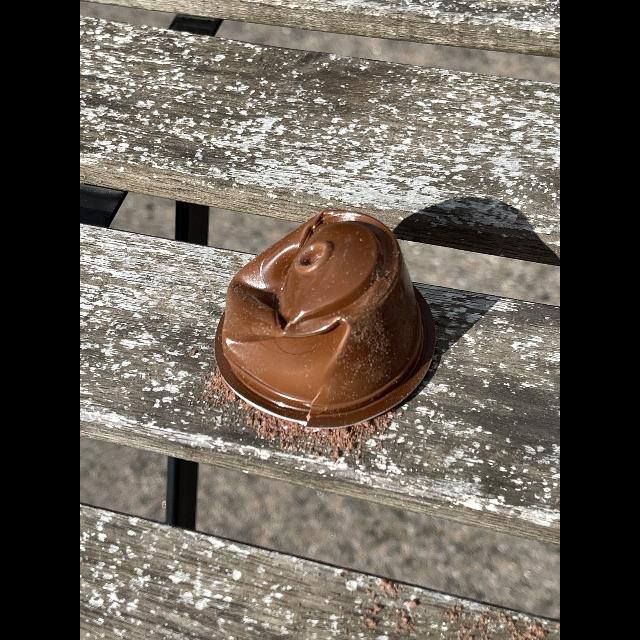damaged_capsule: (208, 202, 456, 436)
